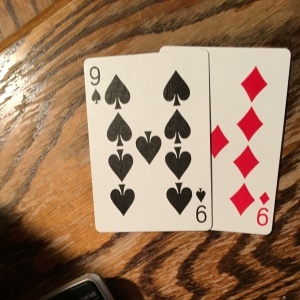card: (83, 51, 216, 234), (208, 47, 291, 236)
